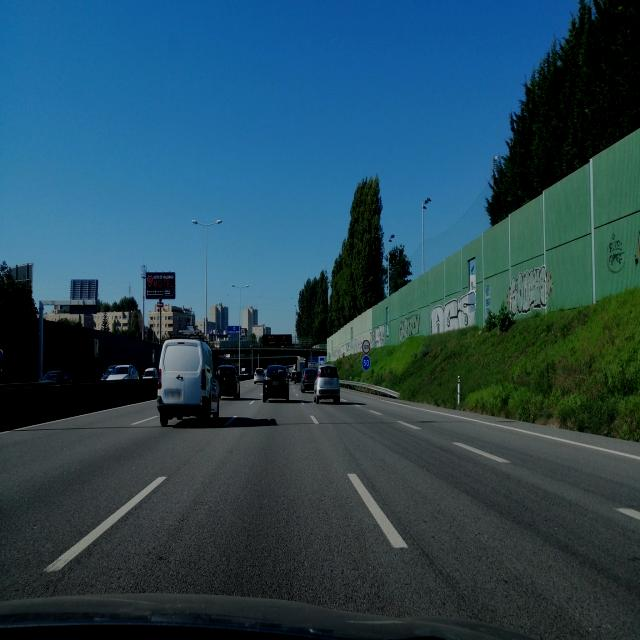car: (157, 332, 220, 426), (313, 362, 341, 404), (262, 364, 290, 404), (217, 364, 240, 399), (100, 363, 139, 381), (40, 369, 72, 384), (301, 367, 317, 392), (142, 366, 158, 380), (254, 368, 265, 384), (239, 366, 249, 380)
